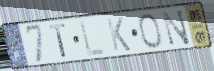7: (24, 23, 45, 66)
K: (105, 16, 133, 53)
L: (78, 19, 107, 59)
N: (161, 8, 192, 47)
O: (137, 13, 164, 50)
T: (47, 22, 69, 60)
